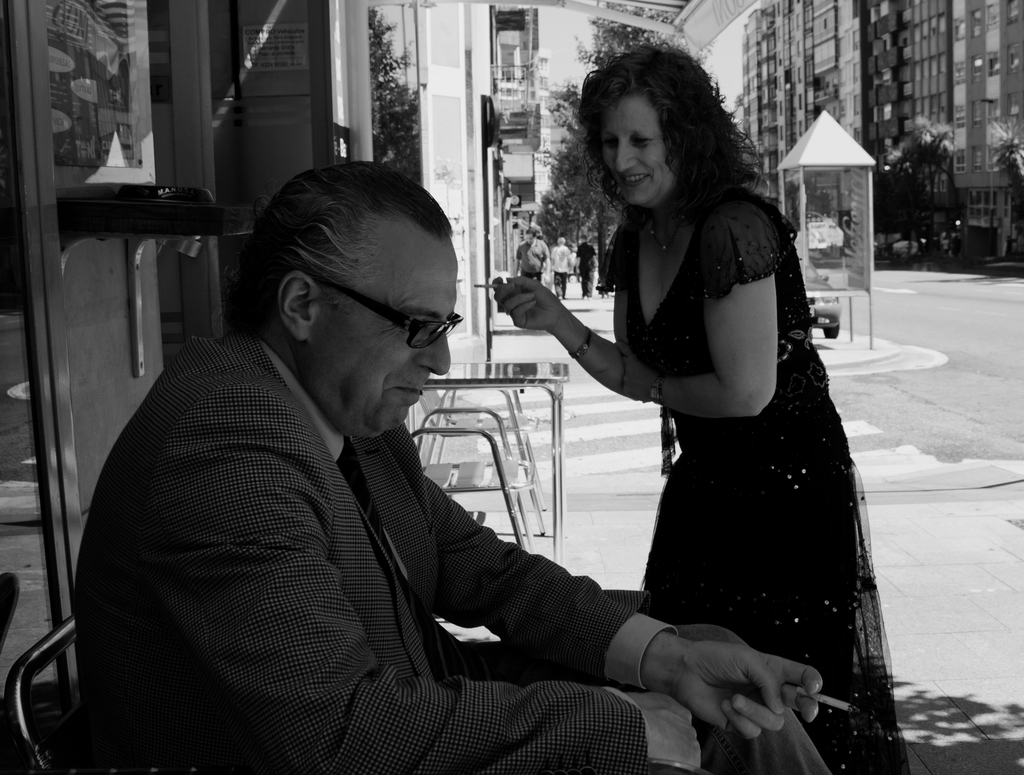face: (326, 230, 455, 441)
